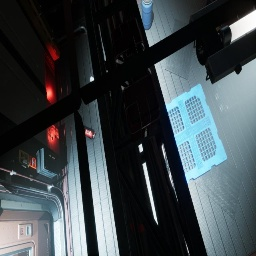0: (90, 76, 94, 82)
EmergencyPhone ,: (16, 149, 30, 169)
FireAlarm ,: (29, 155, 36, 169)
FireExtinguisher ]: (84, 128, 96, 140)
FirstAidBox ,: (111, 17, 160, 142)
